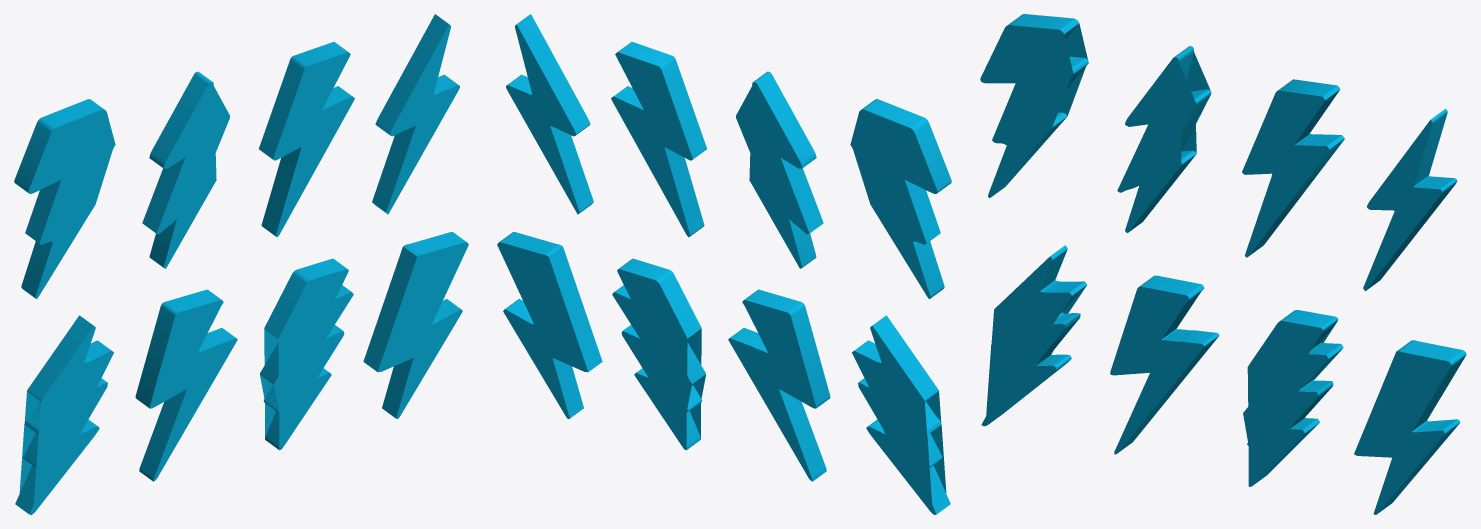
File: Lightning Bolt.fbx
3 views of the same model, side by side, from view 1: azimuth 30°, elevation 25°; view 2: azimuth 150°, elevation 25°; view 3: azimuth 330°, elevation 25° (orthographic). The views are drawn at different scales.
Visible parts, largest first — view 1: Curve, Curve.002, Curve.001, Curve.005, Curve.003, Curve.004, Curve.006, Curve.007; view 2: Curve, Curve.002, Curve.001, Curve.005, Curve.003, Curve.004, Curve.006, Curve.007; view 3: Curve, Curve.002, Curve.001, Curve.005, Curve.003, Curve.004, Curve.006, Curve.007.
Boxes of the visible parts, box(x1,y1,x2,y2) form: Curve: box(14, 99, 115, 298); Curve.002: box(260, 258, 353, 450); Curve.001: box(363, 232, 468, 418); Curve.005: box(15, 315, 113, 514); Curve.003: box(135, 289, 237, 481); Curve.004: box(259, 42, 354, 237); Curve.006: box(142, 71, 229, 268); Curve.007: box(372, 14, 459, 214); Curve: box(850, 99, 951, 298); Curve.002: box(612, 258, 705, 450); Curve.001: box(497, 232, 602, 418); Curve.005: box(852, 315, 950, 514); Curve.003: box(728, 289, 830, 481); Curve.004: box(611, 42, 706, 237); Curve.006: box(736, 71, 823, 268); Curve.007: box(506, 14, 593, 214); Curve: box(980, 14, 1088, 197); Curve.002: box(1243, 310, 1343, 486); Curve.001: box(1354, 340, 1466, 514); Curve.005: box(981, 245, 1087, 426); Curve.003: box(1110, 275, 1219, 454); Curve.004: box(1242, 79, 1344, 257); Curve.006: box(1117, 46, 1211, 232); Curve.007: box(1363, 108, 1457, 291).
Bounding box in the file's own units: 312 × 264 × 17.49.
